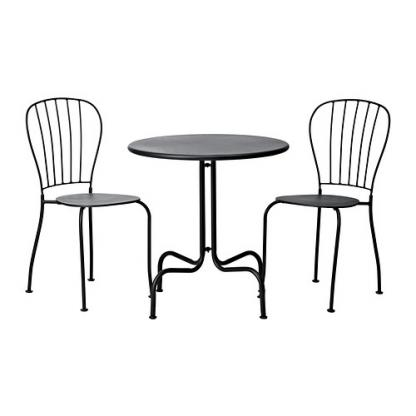Chair: (257, 96, 392, 315), (24, 96, 153, 311)
Table: (126, 126, 290, 319)
